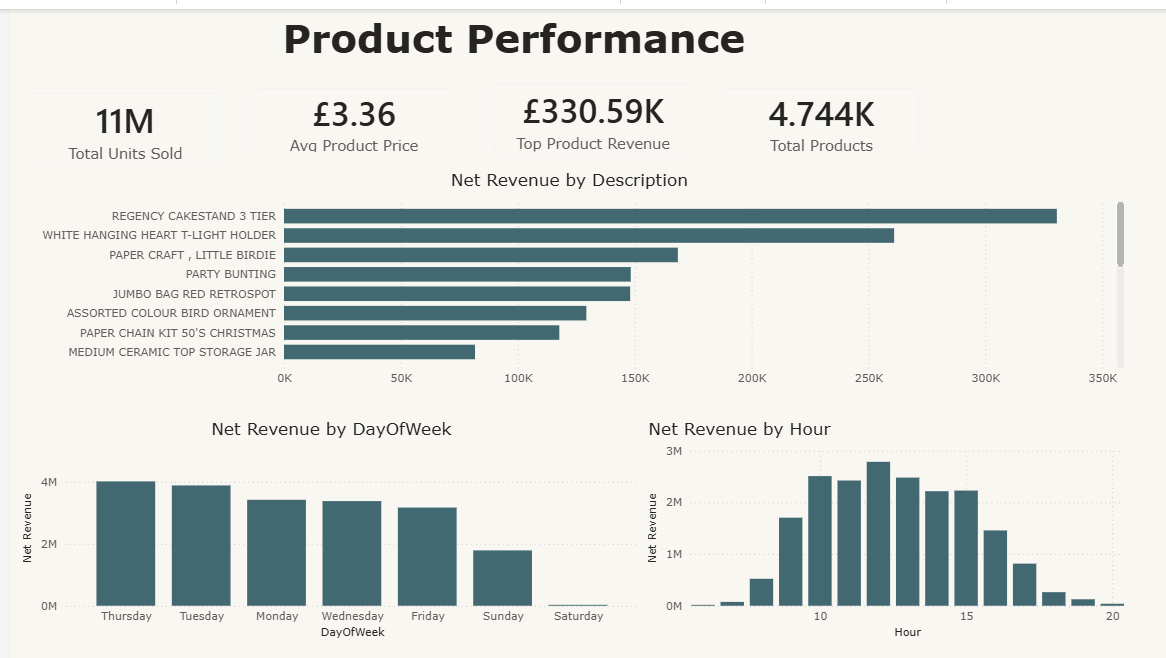

The dashboard page shown, as its layout file describes it:
{"tool":"powerbi","page":{"name":" Product Performance","canvas":[1280,720],"ordinal":2},"visuals":[{"type":"textbox","box":[9.8,0,1072.4,85.9],"z":0},{"type":"cardVisual","fields":{"Data":["sales.Total Units Sold"]},"box":[0,75.5,251.1,111.1],"z":1000},{"type":"cardVisual","fields":{"Data":["sales.Avg Product Price"]},"box":[251.1,70,251.1,105.7],"z":2000},{"type":"cardVisual","fields":{"Data":["sales.Top Product Revenue"]},"box":[514.6,64.5,249.7,111.1],"z":3000},{"type":"cardVisual","fields":{"Data":["sales.Total Products"]},"box":[764.3,70,251.1,105.7],"z":4000},{"type":"clusteredBarChart","fields":{"Category":["sales.Description"],"Y":["sales.Net Revenue"]},"box":[0,175.5,1228.2,246.6],"z":5000},{"type":"columnChart","fields":{"Category":["sales.DayOfWeek"],"Y":["sales.Net Revenue"]},"box":[9.6,448.7,686.1,247],"z":6000},{"type":"columnChart","fields":{"Category":["sales.Hour"],"Y":["sales.Net Revenue"]},"box":[695.7,448.7,532.4,247],"z":6001}]}

Visuals, with their boxes in screenshot pixels (x1, y1, x2, y2), scaled from the page's 1280x720 canvas onto the 1166x658 screenshot:
textbox: 9 0 986 79
cardVisual - sales.Total Units Sold: 0 69 229 171
cardVisual - sales.Avg Product Price: 229 64 457 161
cardVisual - sales.Top Product Revenue: 469 59 696 160
cardVisual - sales.Total Products: 696 64 925 161
clusteredBarChart - sales.Description x sales.Net Revenue: 0 160 1119 386
columnChart - sales.DayOfWeek x sales.Net Revenue: 9 410 634 636
columnChart - sales.Hour x sales.Net Revenue: 634 410 1119 636
